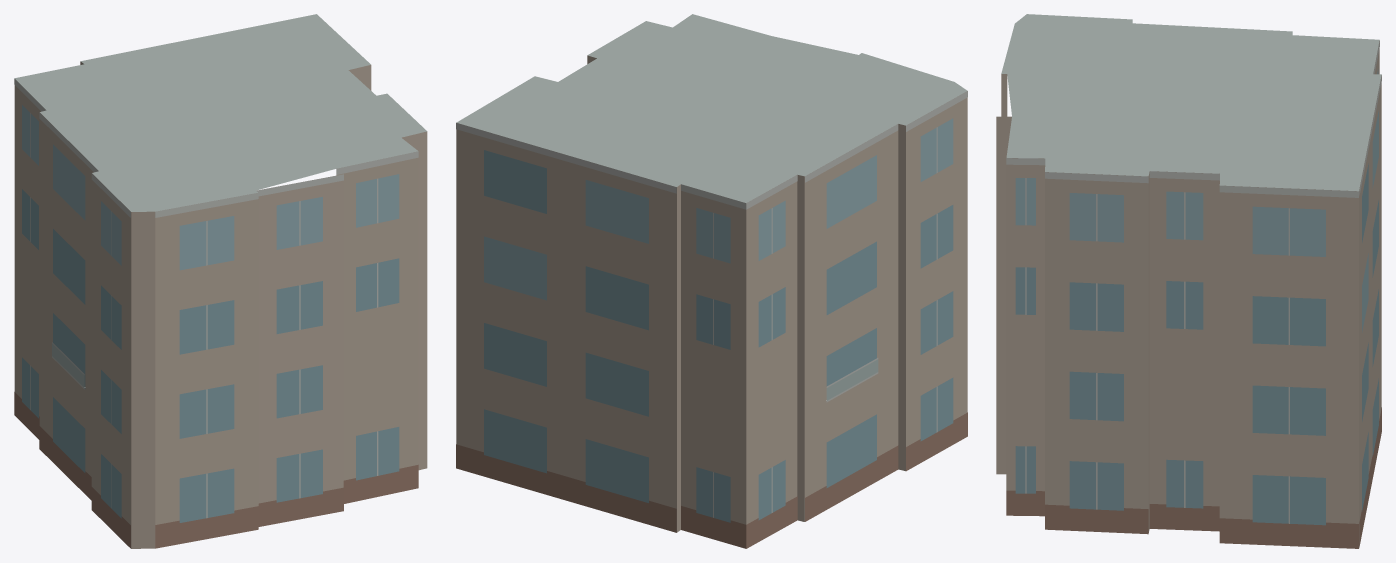
Rendered from survey-upis-32476799.glb.
3 renders of one model, left to right at view 1: azimuth 30°, elevation 25°; view 2: azimuth 150°, elevation 25°; view 3: azimuth 270°, elevation 25°, orthographic. The views are drawn at different scales.
Parts seen in each view (by area): view 1: survey-upis-32476799.tmp; view 2: survey-upis-32476799.tmp; view 3: survey-upis-32476799.tmp.
Boxes of the visible parts, x1=… form: survey-upis-32476799.tmp: x1=14, y1=14, x2=427, y2=548; survey-upis-32476799.tmp: x1=456, y1=14, x2=967, y2=548; survey-upis-32476799.tmp: x1=996, y1=14, x2=1381, y2=548.
Bounding box in the file's own units: 13.72 × 12.9 × 12.61.
